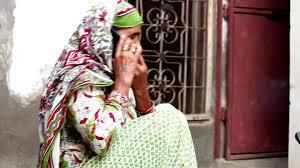Human: (33, 1, 198, 165)
